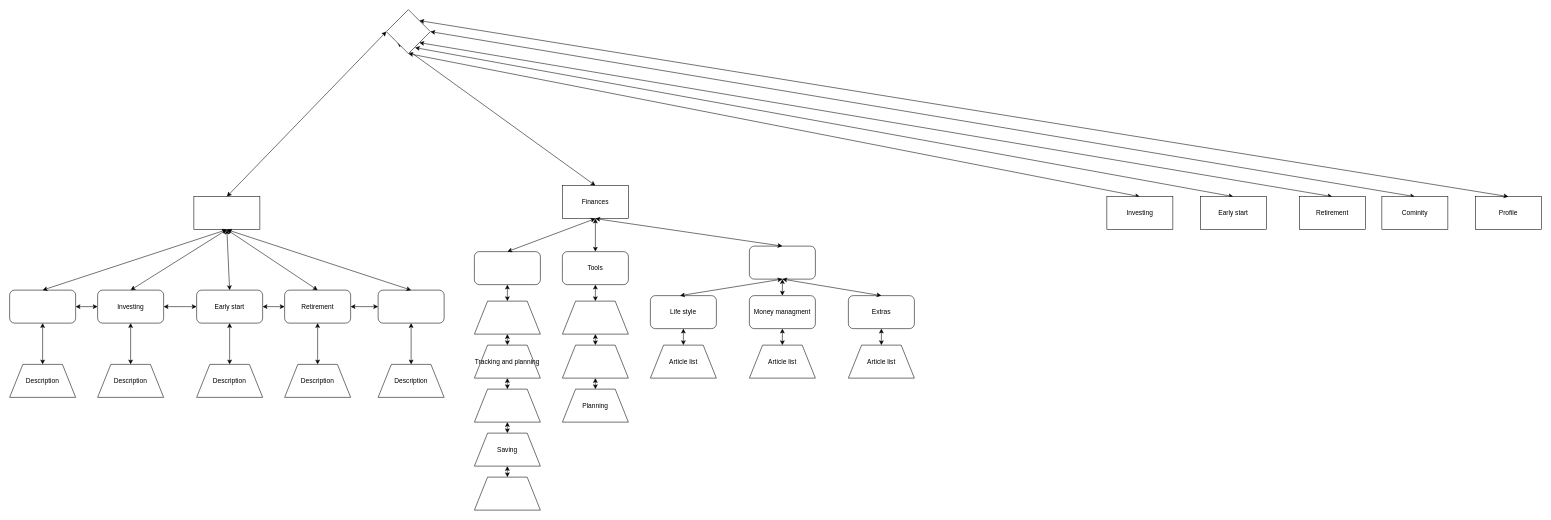
Image size: 1551x520. Some labels were removed from this diagram. Here are the shapes that lost their labels. From the top down, the centre of each, then its label:
the point at 408,31: Navigation
the point at 226,213: Welcome
the point at 507,268: Courses
the point at 782,262: Articles
the point at 42,306: Finance
the point at 411,306: Community
the point at 507,317: Introduction
the point at 595,317: Overview
the point at 595,361: Record
the point at 507,405: Credit, debt and banking
the point at 507,493: Taxes
